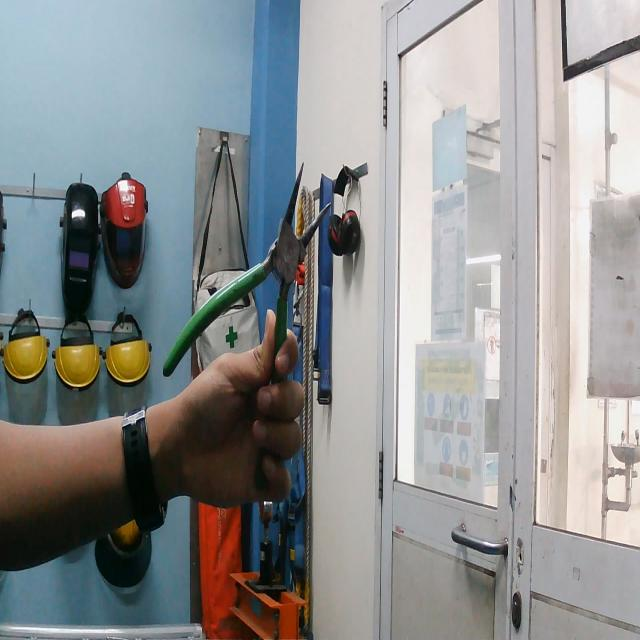tang_scun_hidrolik: (157, 157, 335, 423)
